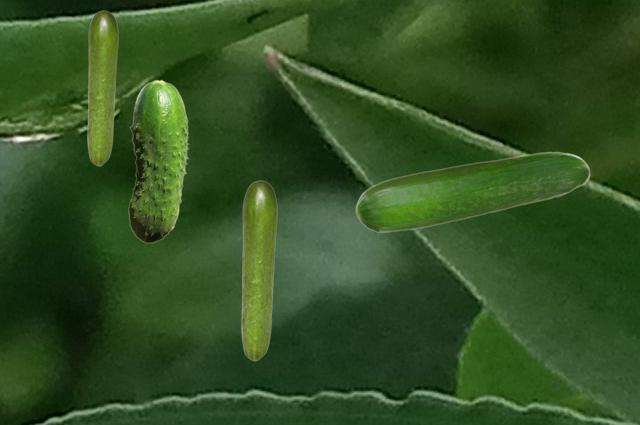cucumber: (355, 151, 589, 232), (128, 79, 188, 242), (241, 180, 276, 360), (87, 10, 117, 165)
